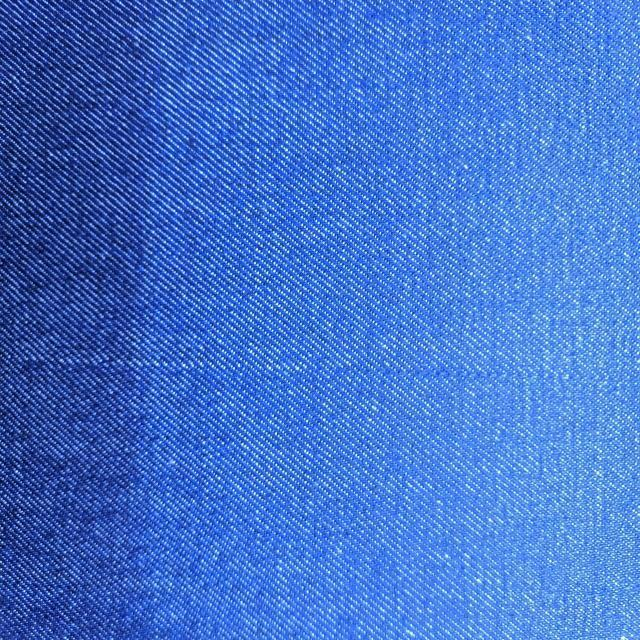Line: (11, 349, 596, 382)
